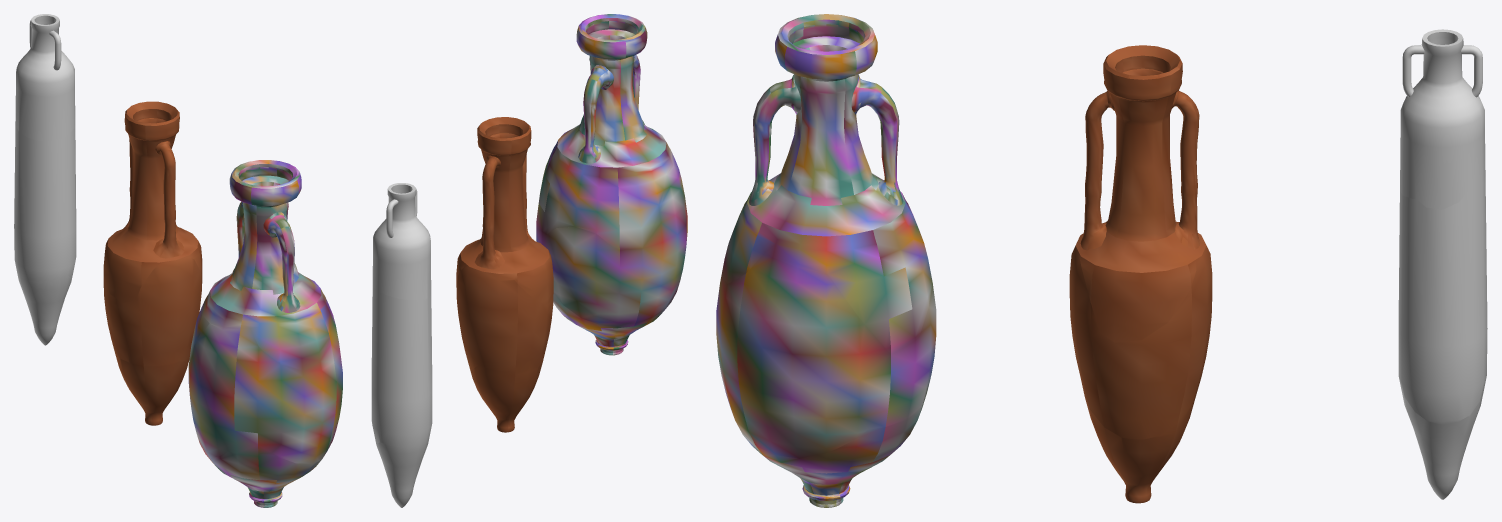
The model's file is Anphoras_piezas-2.fbx.
The picture shows the model from 3 angles, left to right: view 1: azimuth 30°, elevation 25°; view 2: azimuth 150°, elevation 25°; view 3: azimuth 270°, elevation 25°; orthographic projection. The views are drawn at different scales.
Parts seen in each view (by area): view 1: amphora03_02, amphora03_01, amphora02_01, amphora01_02, amphora02_02, amphora01_01, amphora03_03, amphora02_03, amphora01_03; view 2: amphora03_01, amphora03_02, amphora02_01, amphora01_02, amphora02_02, amphora01_01, amphora02_03, amphora01_03, amphora03_03; view 3: amphora03_01, amphora03_02, amphora02_01, amphora01_02, amphora02_02, amphora01_01, amphora03_03, amphora02_03, amphora01_03.
Boxes of the visible parts, x1,y1,x2,y2 form: amphora03_02: [188, 307, 342, 463]; amphora03_01: [189, 160, 329, 370]; amphora02_01: [103, 101, 202, 302]; amphora01_02: [14, 125, 76, 281]; amphora02_02: [103, 256, 201, 365]; amphora01_01: [15, 14, 75, 140]; amphora03_03: [207, 451, 320, 507]; amphora02_03: [114, 350, 187, 425]; amphora01_03: [17, 274, 71, 345]; amphora03_01: [536, 14, 672, 248]; amphora03_02: [536, 154, 687, 326]; amphora02_01: [456, 117, 553, 304]; amphora01_02: [371, 286, 432, 447]; amphora02_02: [456, 263, 553, 371]; amphora01_01: [372, 183, 431, 299]; amphora02_03: [470, 361, 542, 432]; amphora01_03: [376, 437, 429, 507]; amphora03_03: [553, 290, 677, 355]; amphora03_01: [721, 14, 932, 354]; amphora03_02: [716, 252, 936, 458]; amphora02_01: [1078, 45, 1203, 342]; amphora01_02: [1398, 177, 1487, 424]; amphora02_02: [1069, 238, 1212, 440]; amphora01_01: [1400, 29, 1485, 209]; amphora03_03: [741, 415, 917, 507]; amphora02_03: [1084, 389, 1197, 503]; amphora01_03: [1401, 390, 1482, 499].
Size of the model in its own units: 47.29 by 111 by 166.
